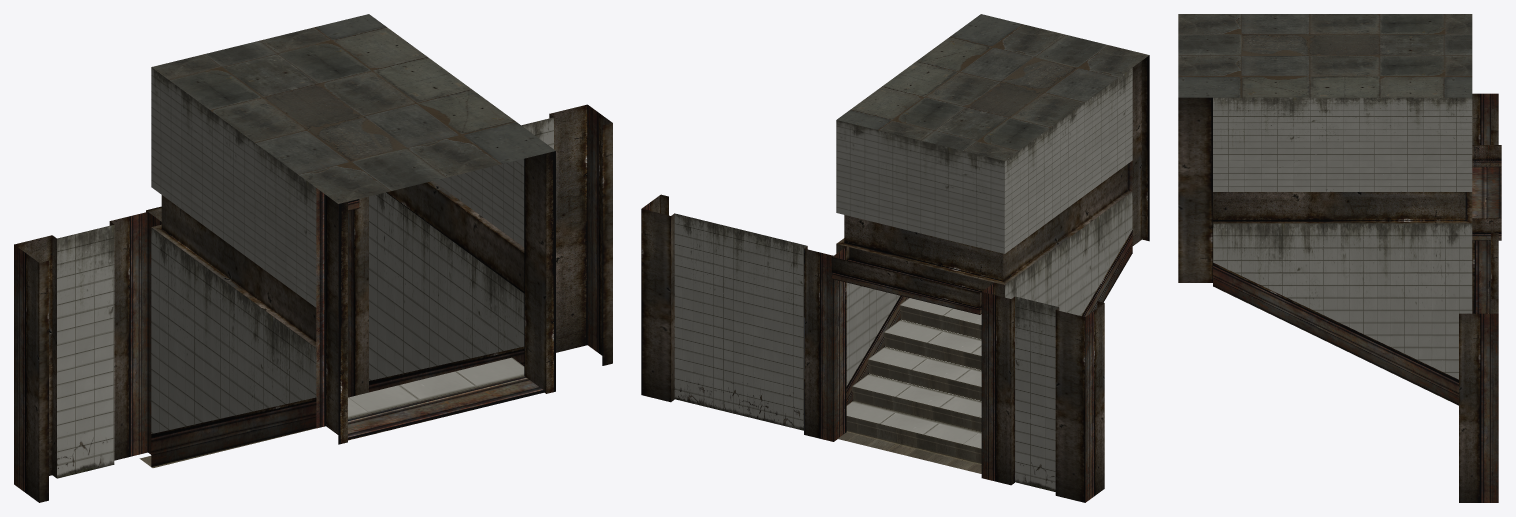
Rendered from StairB.fbx.
3 views of the same model, side by side, from view 1: azimuth 30°, elevation 25°; view 2: azimuth 150°, elevation 25°; view 3: azimuth 270°, elevation 25° (orthographic). The views are drawn at different scales.
Visible parts, largest first — view 1: StairB; view 2: StairB; view 3: StairB.
Boxes of the visible parts, x1,y1,x2,y2 form: StairB: (14,14,612,502); StairB: (641,14,1149,502); StairB: (1178,14,1501,502).
Bounding box in the file's own units: 914 × 611 × 568.
